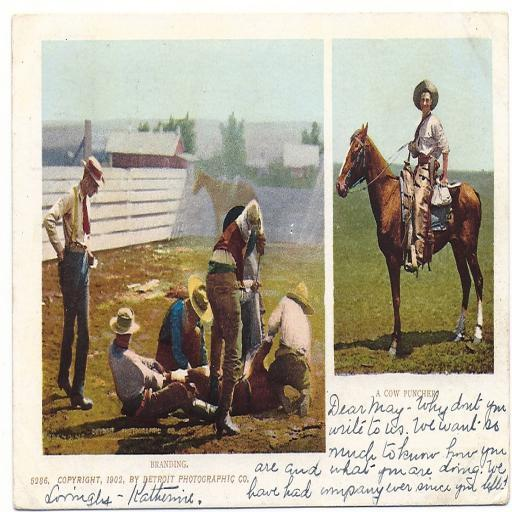horse: (334, 120, 485, 362)
